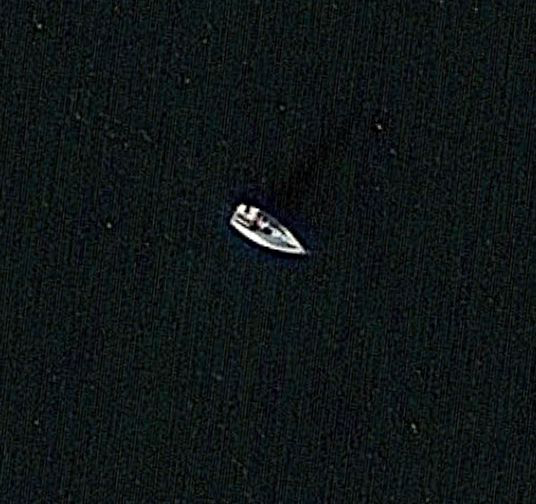boat: (228, 201, 310, 257)
